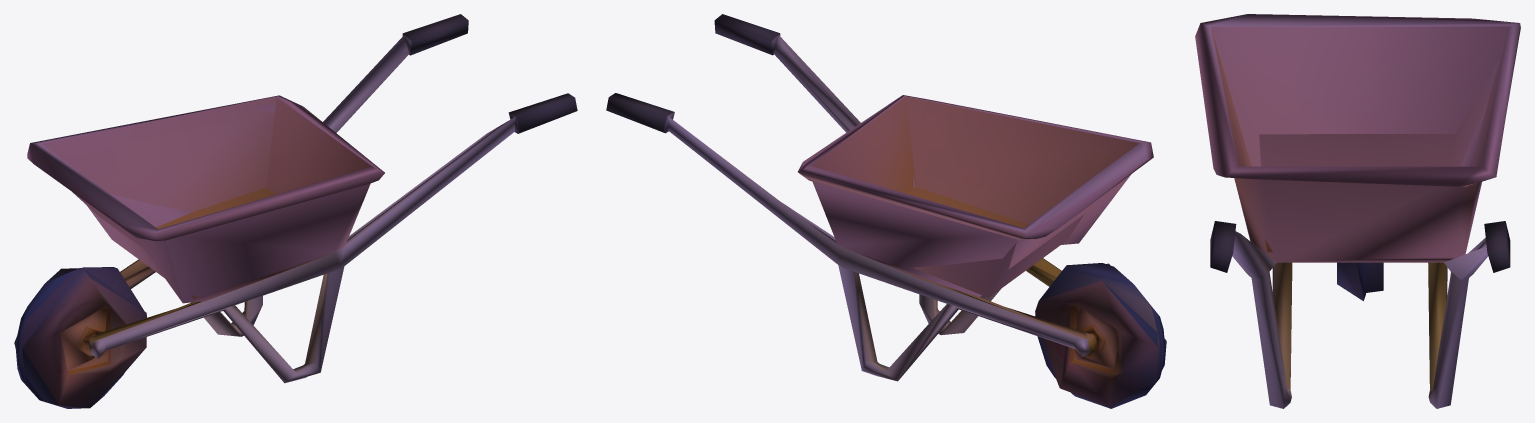
The model's file is model.progressive.glb.
3 renders of one model, left to right at view 1: azimuth 30°, elevation 25°; view 2: azimuth 150°, elevation 25°; view 3: azimuth 270°, elevation 25°, orthographic. The views are drawn at different scales.
Parts seen in each view (by area): view 1: material; view 2: material; view 3: material.
Part boxes in pixels (box(x1,y1,x2,y2)): material: box(14, 14, 577, 408); material: box(606, 14, 1166, 408); material: box(1195, 14, 1520, 408).
Bounding box in the file's own units: 1.9 × 0.8827 × 0.8339.
1 material, 1 textured.
